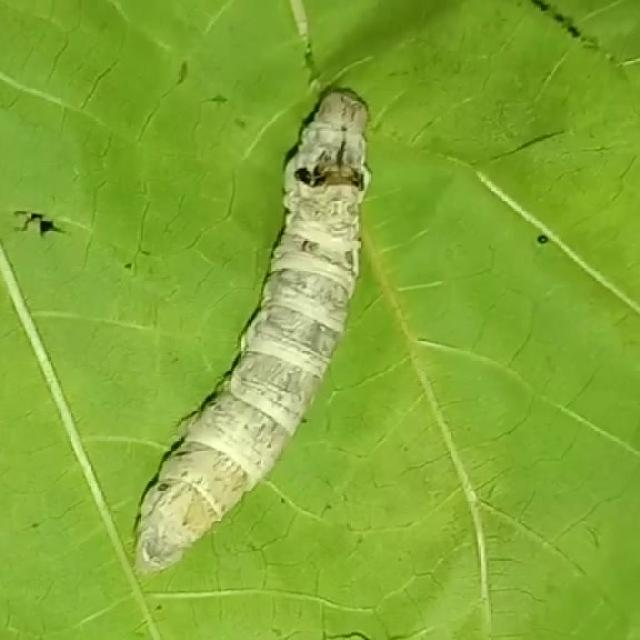Grasserie: (107, 50, 408, 602)
